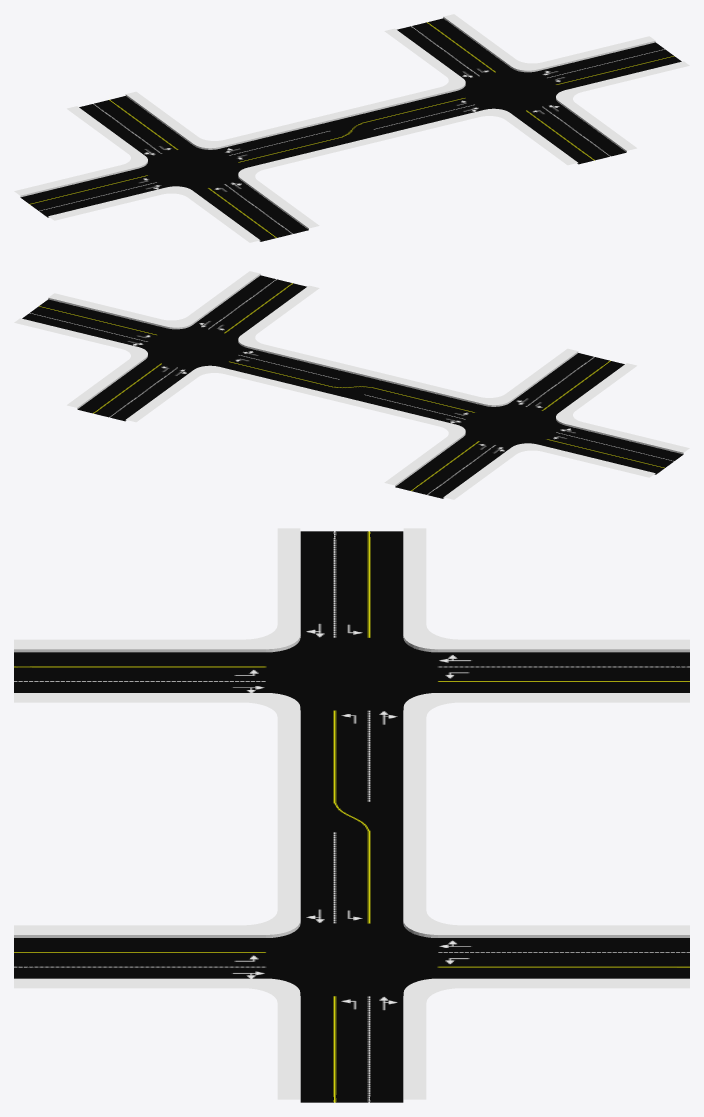
Rendered from road.fbx.
The picture shows the model from 3 angles, top to bottom: view 1: azimuth 30°, elevation 25°; view 2: azimuth 150°, elevation 25°; view 3: azimuth 270°, elevation 25°; orthographic projection. The views are drawn at different scales.
Parts seen in each view (by area): view 1: Plane; view 2: Plane; view 3: Plane.
Boxes of the visible parts, bbox=[...] form: Plane: bbox=[14, 14, 689, 242]; Plane: bbox=[14, 271, 689, 499]; Plane: bbox=[14, 528, 689, 1102].
Size of the model in its own units: 11800 by 30 by 5900.
